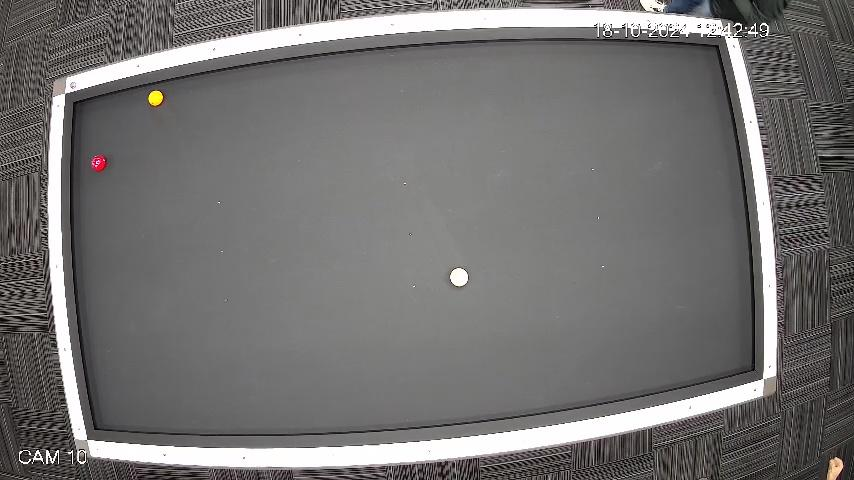Red: (90, 154, 106, 172)
White: (449, 267, 470, 288)
Yellow: (146, 90, 164, 107)
